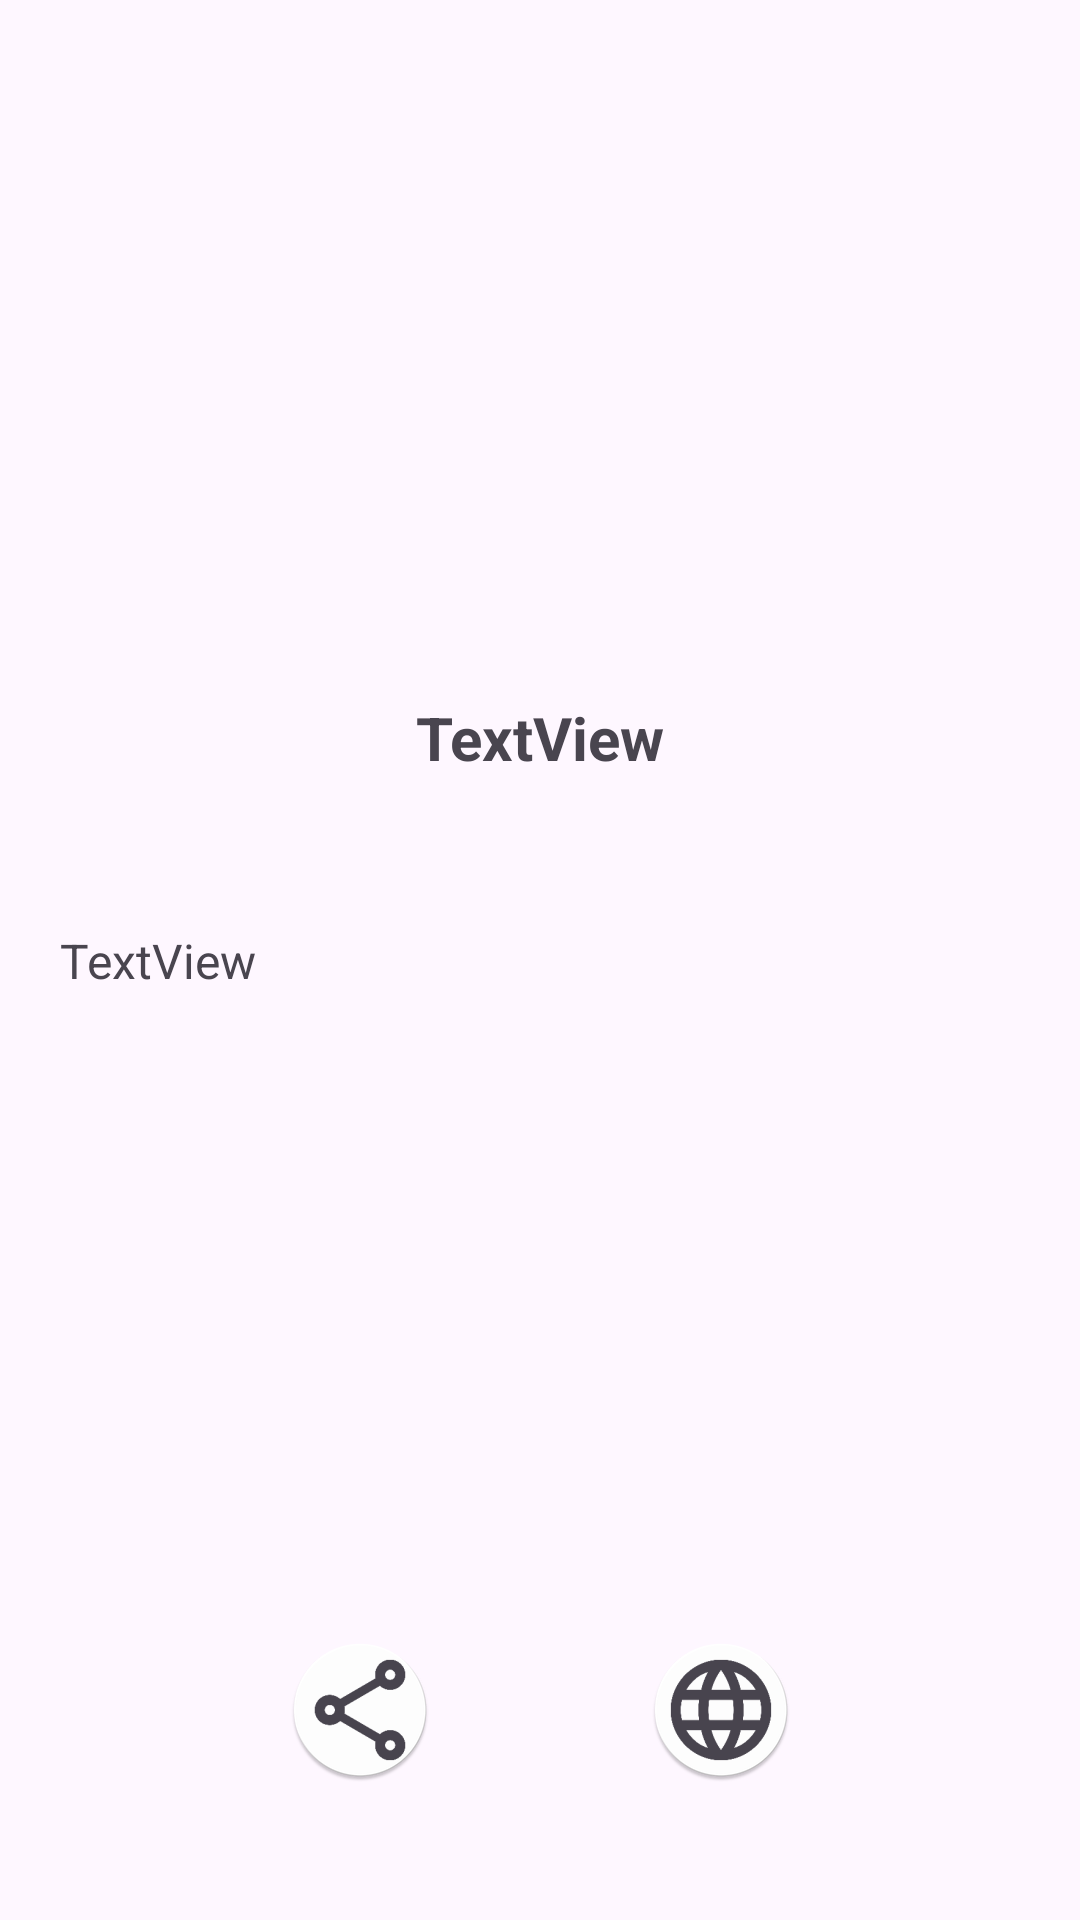

Where to tap for icons on this 1080*1920 app screen, as [x,y]:
share round: [361,1719]
